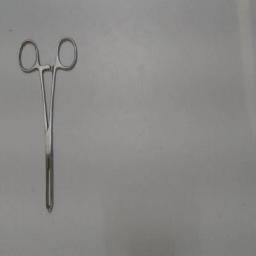Allis Tissue Forceps: (13, 35, 83, 225)
